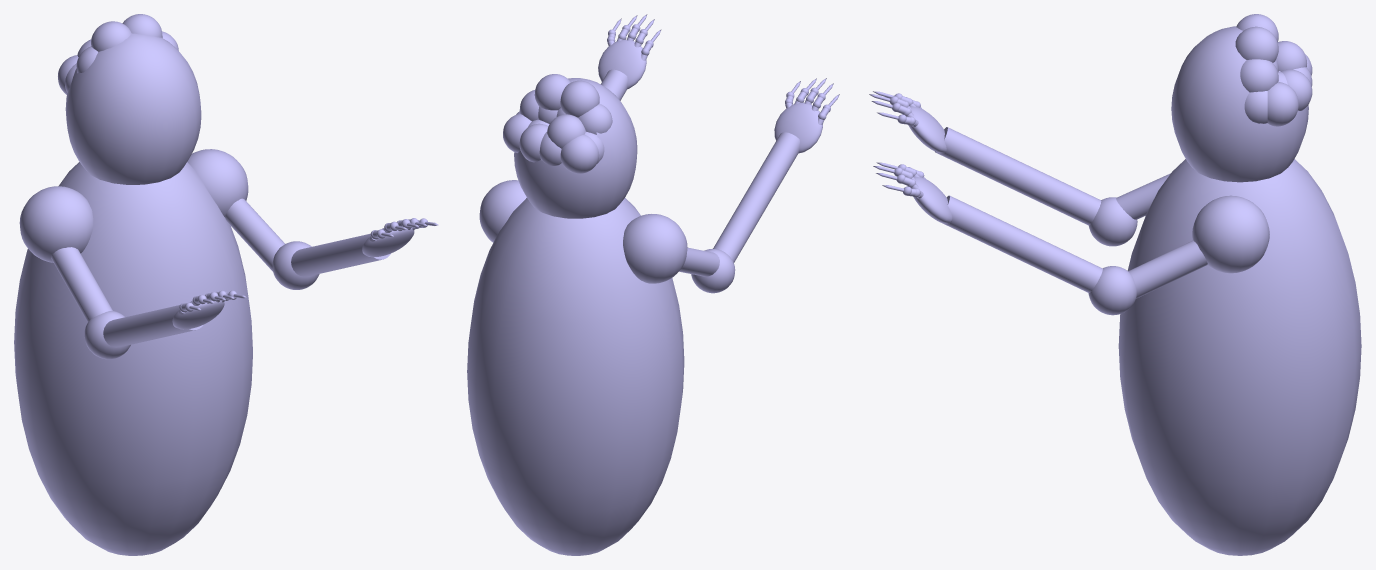
File: GhostUVForgetfull.FBX
3 renders of one model, left to right at view 1: azimuth 30°, elevation 25°; view 2: azimuth 150°, elevation 25°; view 3: azimuth 270°, elevation 25°, orthographic. The views are drawn at different scales.
Parts seen in each view (by area): view 1: Ghost_Forgetfulness_New_UV; view 2: Ghost_Forgetfulness_New_UV; view 3: Ghost_Forgetfulness_New_UV.
Boxes of the visible parts, left/top/right/bottom form: Ghost_Forgetfulness_New_UV: left=14, top=14, right=438, bottom=555; Ghost_Forgetfulness_New_UV: left=467, top=14, right=839, bottom=555; Ghost_Forgetfulness_New_UV: left=869, top=14, right=1361, bottom=555.
Size of what is drawn, in the model's own units: 15.3 by 26.66 by 31.53.
